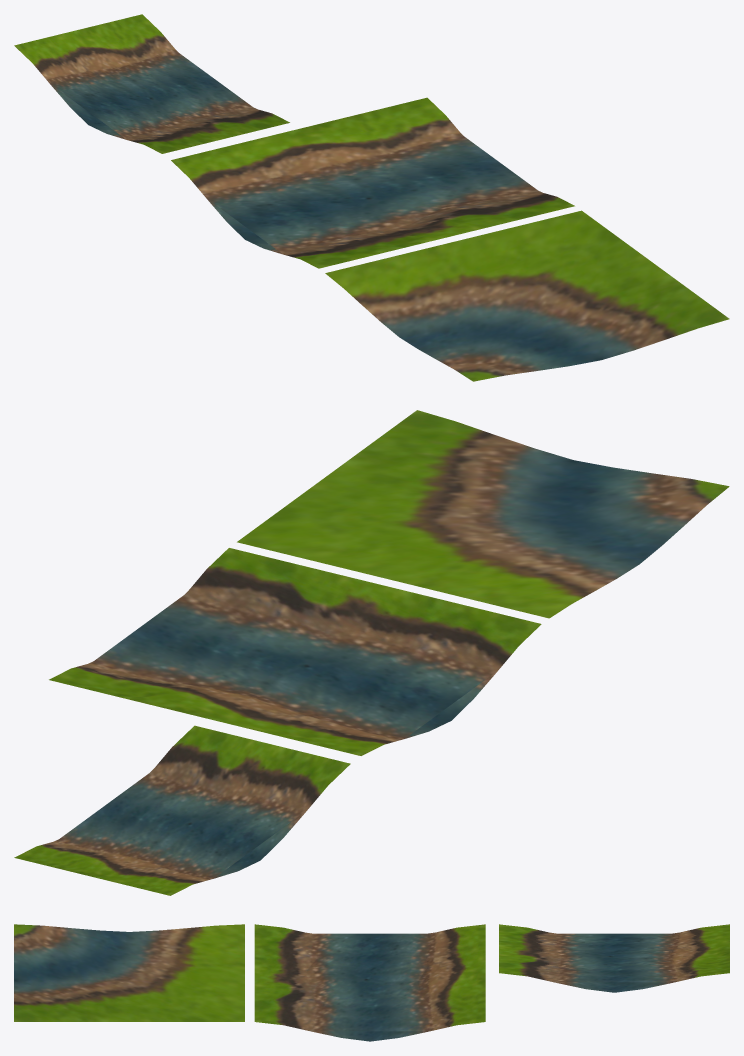
Rendered from ch1_rivers.glb.
The picture shows the model from 3 angles, top to bottom: view 1: azimuth 30°, elevation 25°; view 2: azimuth 150°, elevation 25°; view 3: azimuth 270°, elevation 25°; orthographic projection. The views are drawn at different scales.
Visible parts, largest first — view 1: S_Stream_2W_Turn_2L_a.mo, S_Stream_2W_Straight_2L_a.mo, S_Stream_2W_Straight_1L_a.mo, S_Stream_2W_Straight_2L_a.mo_M_Terrain_Z_Streams_Grasslands_; view 2: S_Stream_2W_Turn_2L_a.mo, S_Stream_2W_Straight_2L_a.mo, S_Stream_2W_Straight_1L_a.mo, S_Stream_2W_Straight_2L_a.mo_M_Terrain_Z_Streams_Grasslands_; view 3: S_Stream_2W_Turn_2L_a.mo, S_Stream_2W_Straight_2L_a.mo, S_Stream_2W_Straight_1L_a.mo, S_Stream_2W_Straight_2L_a.mo_M_Terrain_Z_Streams_Grasslands_.
Boxes of the visible parts, box(x1,y1,x2,y2) form: S_Stream_2W_Turn_2L_a.mo: box(325, 210, 729, 381); S_Stream_2W_Straight_2L_a.mo: box(203, 132, 542, 255); S_Stream_2W_Straight_1L_a.mo: box(14, 14, 289, 153); S_Stream_2W_Straight_2L_a.mo_M_Terrain_Z_Streams_Grasslands_: box(171, 97, 574, 268); S_Stream_2W_Turn_2L_a.mo: box(237, 410, 729, 618); S_Stream_2W_Straight_2L_a.mo: box(88, 589, 501, 739); S_Stream_2W_Straight_1L_a.mo: box(14, 725, 350, 895); S_Stream_2W_Straight_2L_a.mo_M_Terrain_Z_Streams_Grasslands_: box(49, 548, 541, 755); S_Stream_2W_Turn_2L_a.mo: box(14, 924, 244, 1021); S_Stream_2W_Straight_2L_a.mo: box(296, 932, 442, 1031); S_Stream_2W_Straight_1L_a.mo: box(499, 924, 729, 992); S_Stream_2W_Straight_2L_a.mo_M_Terrain_Z_Streams_Grasslands_: box(254, 924, 485, 1041).
Bounding box in the file's own units: 10.24 × 0.96 × 31.73.
Materials: 5 (5 with a texture image).
